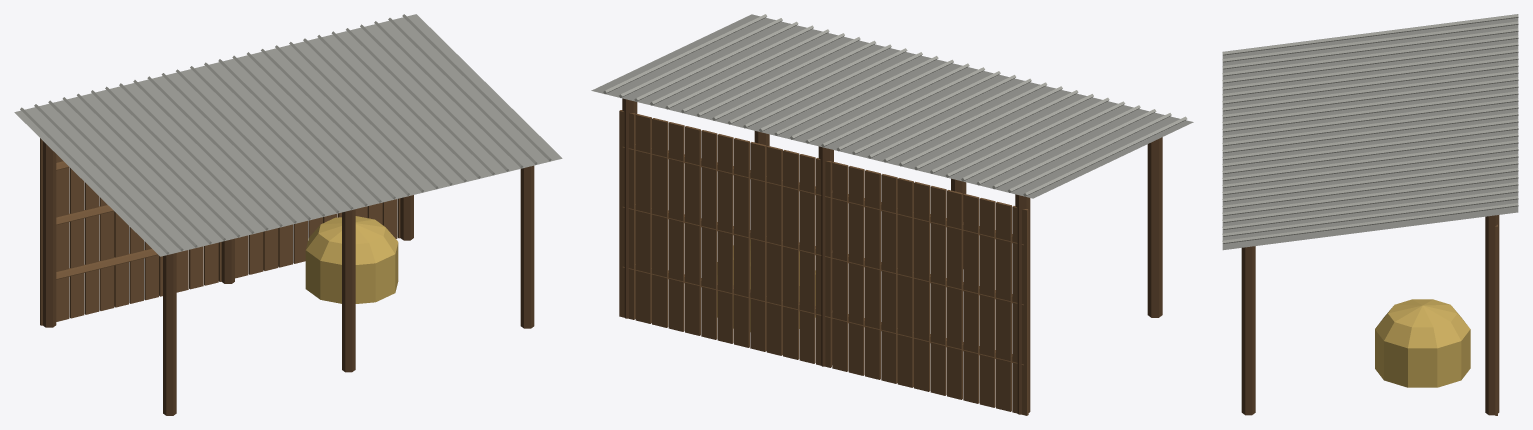
Rendered from Farm_Shelter.obj.
The picture shows the model from 3 angles, left to right: view 1: azimuth 30°, elevation 25°; view 2: azimuth 150°, elevation 25°; view 3: azimuth 270°, elevation 25°; orthographic projection. The views are drawn at different scales.
Visible parts, largest first — view 1: Farm_Shelter; view 2: Farm_Shelter; view 3: Farm_Shelter.
Boxes of the visible parts, bbox=[...] form: Farm_Shelter: bbox=[14, 14, 562, 415]; Farm_Shelter: bbox=[591, 14, 1193, 415]; Farm_Shelter: bbox=[1222, 14, 1518, 415].
Bounding box in the file's own units: 5.4 × 2.72 × 3.41.
